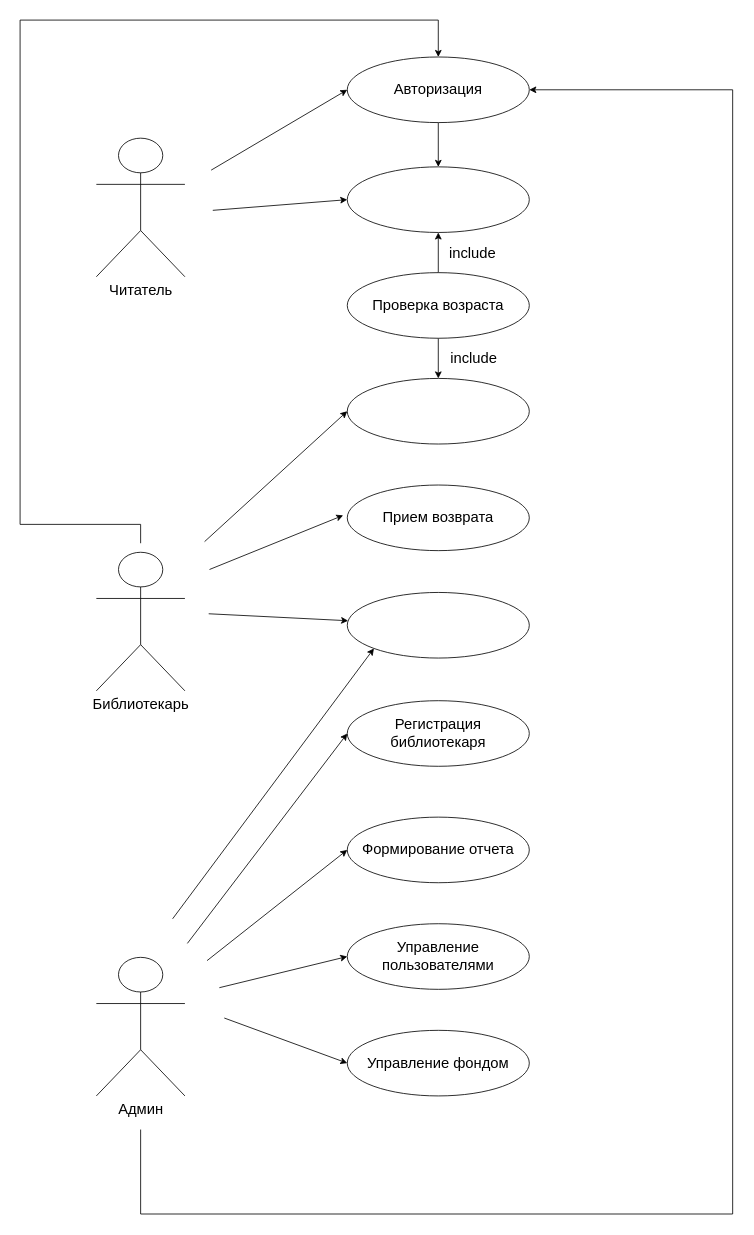
The diagram is 754 pixels wide and 1235 high, and some of its shapes have lost their labels. Each missing label, with the centre of its shape:
"Выдача издания" goes at pixel 437 411.
"Поиск изданий" goes at pixel 437 199.
"Регистрация читателя" goes at pixel 437 625.
